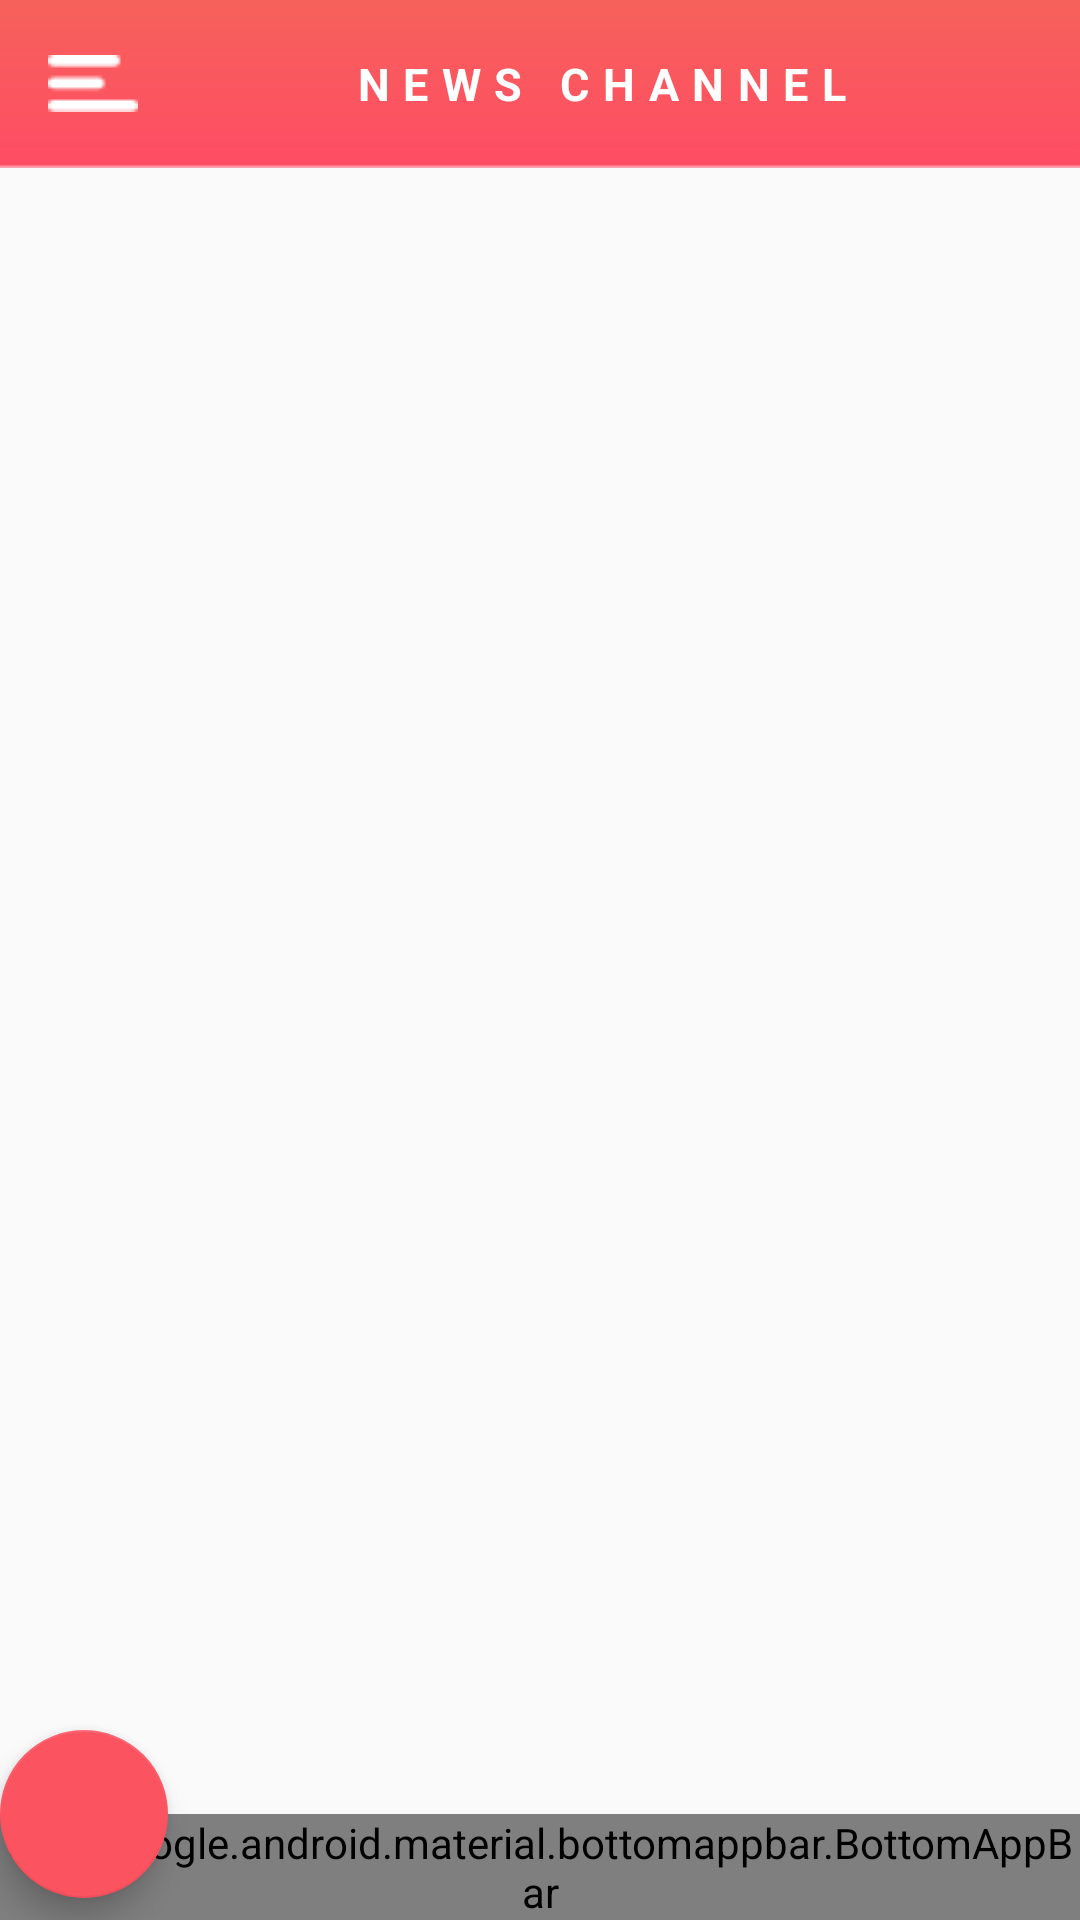

Named icons in this screenshot (1080 × 1920) and their centers, (x,y):
menu: (93,83)
